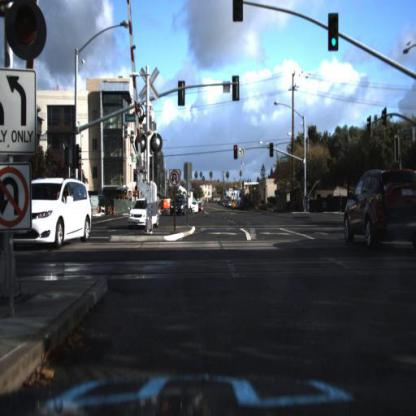biker: (302, 188, 311, 216)
car: (9, 176, 93, 255), (341, 165, 413, 254), (127, 198, 159, 229), (168, 194, 191, 218), (167, 198, 188, 216), (189, 199, 201, 213)
pedestrian: (341, 193, 344, 214)
trafficLight: (8, 4, 53, 69), (328, 13, 340, 51), (232, 1, 244, 25), (269, 141, 276, 158), (234, 140, 239, 162)
trafficLight-Green: (300, 163, 306, 182)
